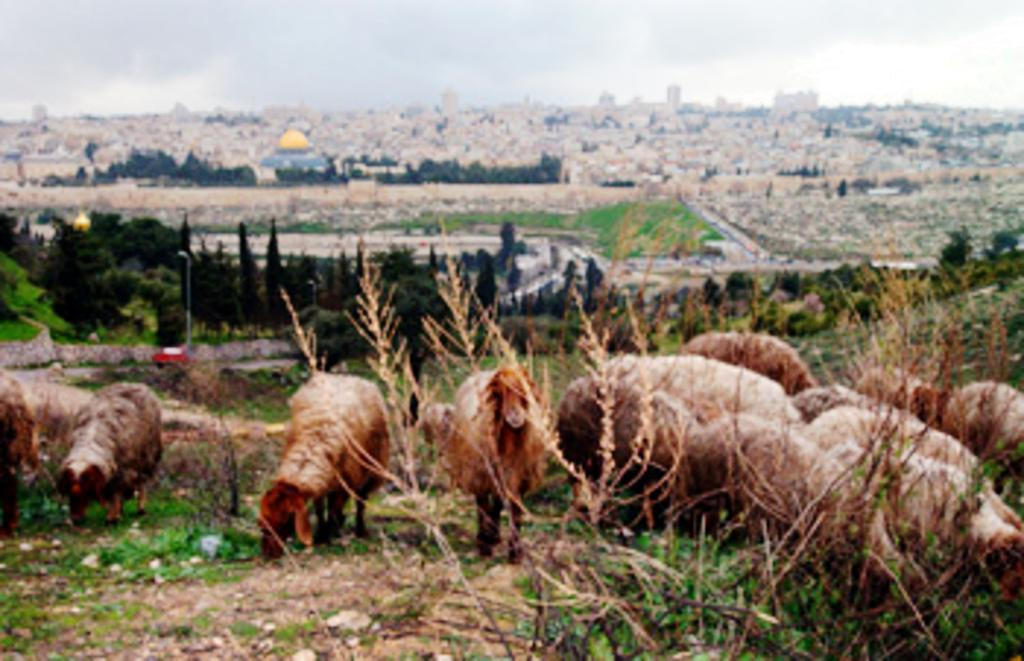Sheep: (246, 362, 402, 574), (437, 352, 557, 586), (661, 434, 877, 562), (564, 366, 710, 489), (64, 384, 170, 530), (602, 349, 784, 418), (676, 313, 832, 382), (814, 403, 972, 461), (0, 366, 38, 494)
